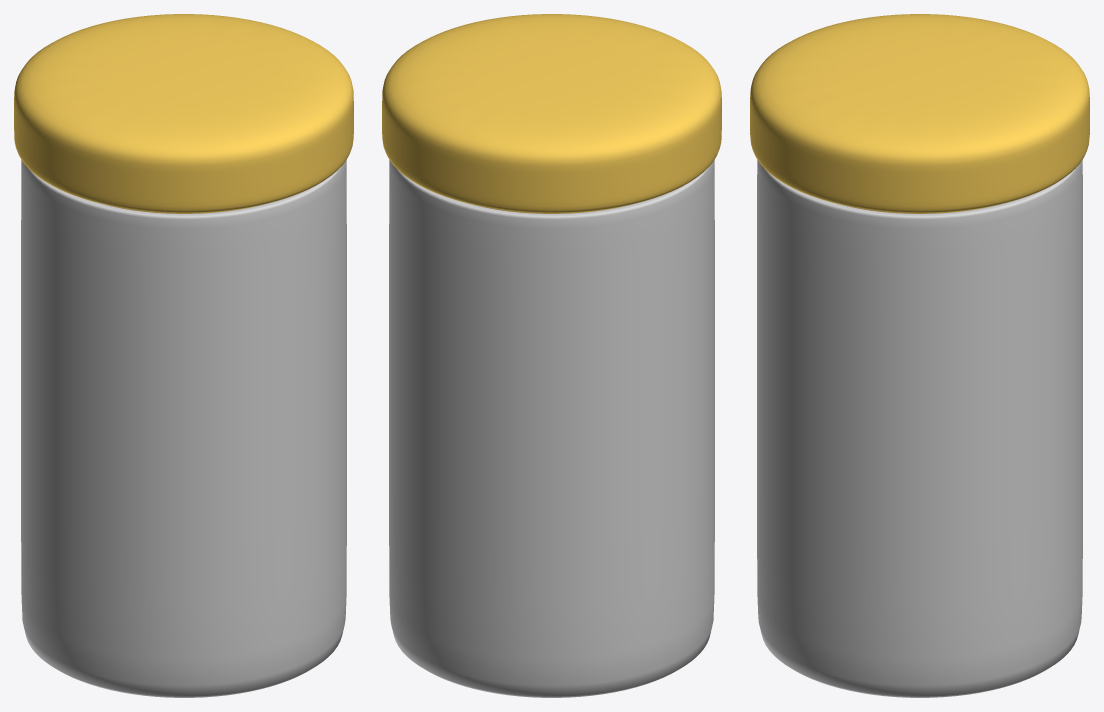
File: jar.fbx
The picture shows the model from 3 angles, left to right: view 1: azimuth 30°, elevation 25°; view 2: azimuth 150°, elevation 25°; view 3: azimuth 270°, elevation 25°; orthographic projection.
Visible parts, largest first — view 1: Cylinder, Cylinder.001; view 2: Cylinder, Cylinder.001; view 3: Cylinder, Cylinder.001.
Part boxes in pixels (x1,y1,x2,y2): Cylinder: (21, 160, 346, 697); Cylinder.001: (14, 14, 353, 213); Cylinder: (389, 160, 714, 697); Cylinder.001: (382, 14, 721, 213); Cylinder: (757, 160, 1082, 697); Cylinder.001: (750, 14, 1089, 213).
Size of the model in its own units: 205 by 376 by 205.
